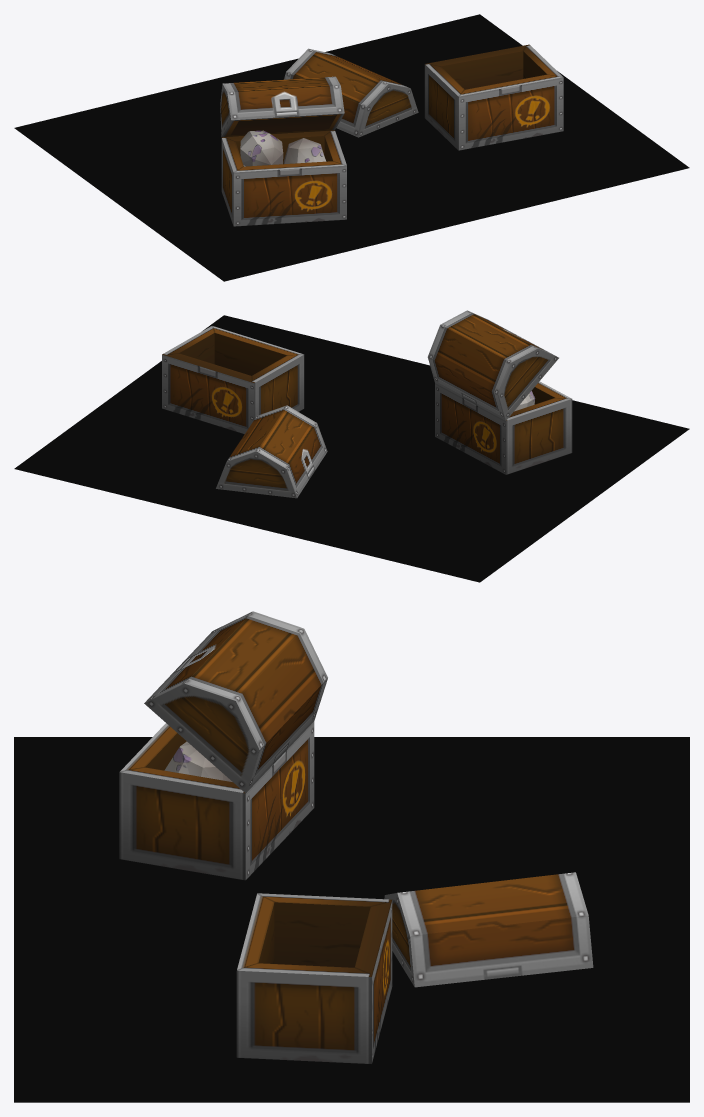
The model's file is chest.fbx.
The picture shows the model from 3 angles, top to bottom: view 1: azimuth 30°, elevation 25°; view 2: azimuth 150°, elevation 25°; view 3: azimuth 270°, elevation 25°; orthographic projection. The views are drawn at different scales.
Visible parts, largest first — view 1: box_yingzi, box; view 2: box_yingzi, box; view 3: box_yingzi, box.
Part boxes in pixels (box(x1,y1,x2,y2)): box_yingzi: box(14, 14, 689, 281); box: box(220, 44, 563, 226); box_yingzi: box(14, 315, 689, 582); box: box(162, 310, 572, 498); box_yingzi: box(14, 737, 689, 1102); box: box(119, 611, 593, 1063).
Bounding box in the file's own units: 522 × 129 × 407.
